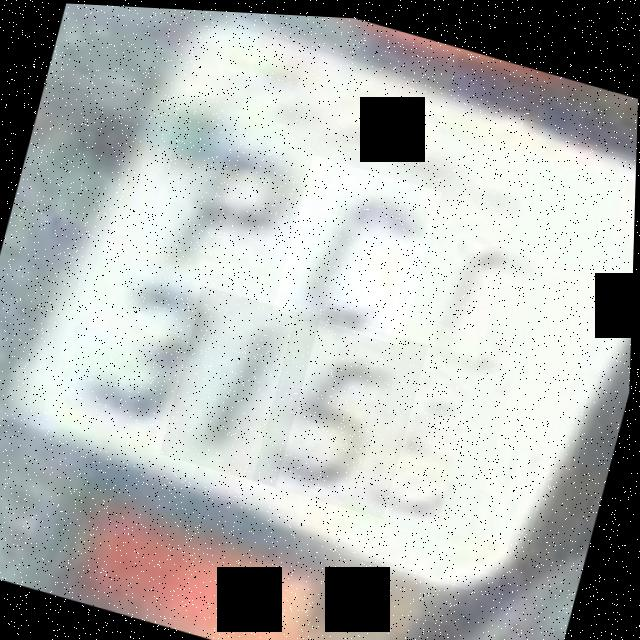1: (162, 281, 322, 485)
3: (51, 240, 256, 475)
5: (254, 303, 431, 516), (350, 329, 518, 543)
C: (273, 150, 443, 343)
P: (124, 117, 304, 324)
